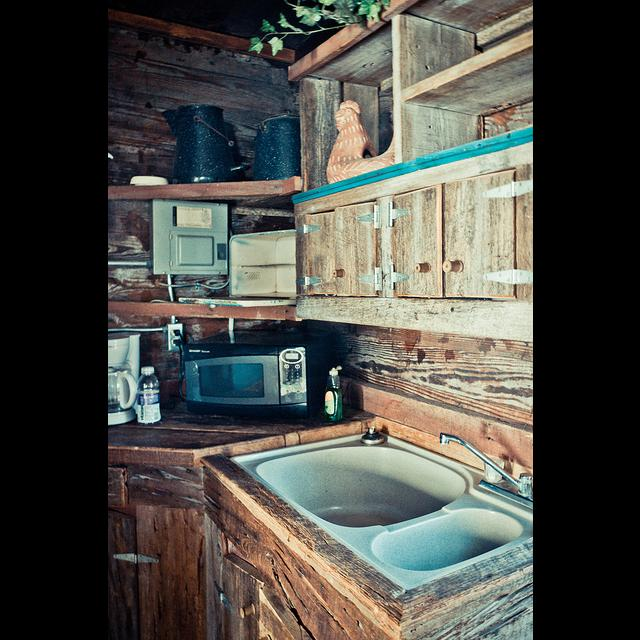Microwave: (183, 343, 312, 424)
